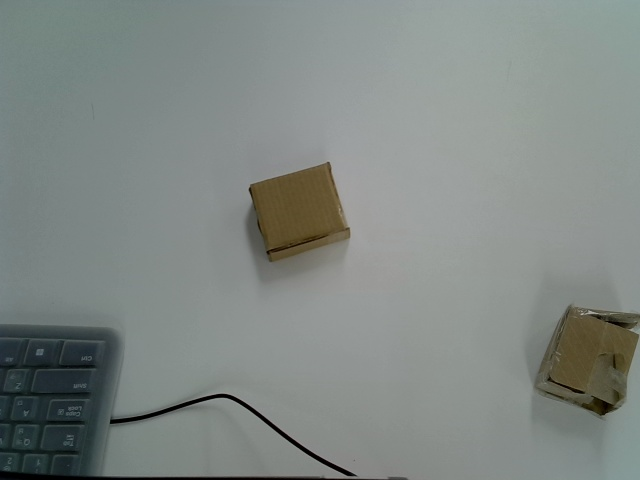defect: (533, 305, 640, 418)
normal: (249, 161, 354, 263)
